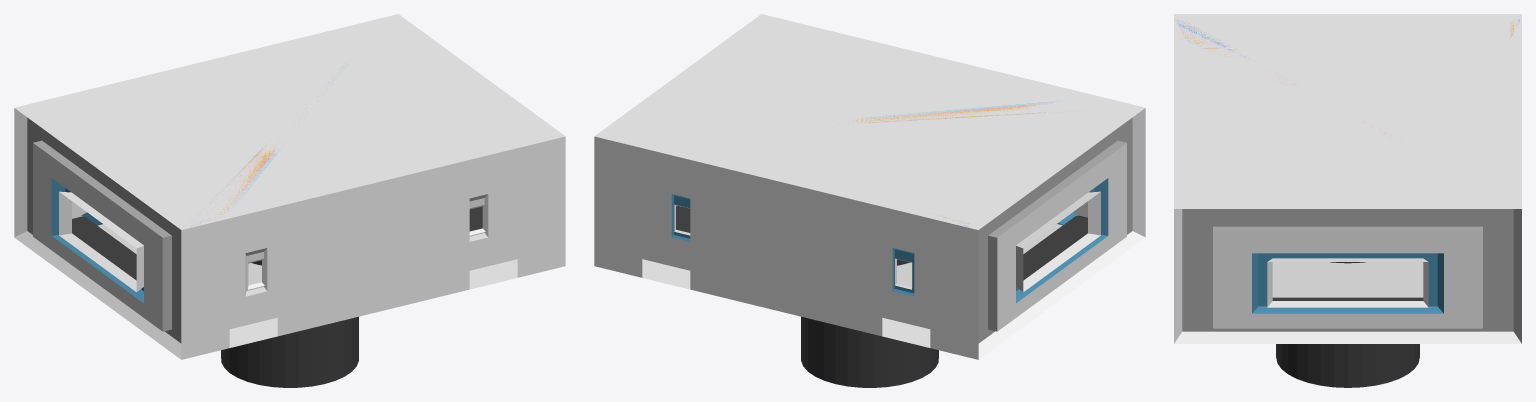
File: carhouse.fbx
The picture shows the model from 3 angles, left to right: view 1: azimuth 30°, elevation 25°; view 2: azimuth 150°, elevation 25°; view 3: azimuth 270°, elevation 25°; orthographic projection. The views are drawn at different scales.
Visible parts, largest first — view 1: Cube; view 2: Cube; view 3: Cube.
Boxes of the visible parts, x1=… form: Cube: x1=14, y1=14, x2=565, y2=387; Cube: x1=594, y1=14, x2=1145, y2=387; Cube: x1=1174, y1=14, x2=1521, y2=387.
Size of the model in its own units: 49.22 by 37.11 by 28.98.
